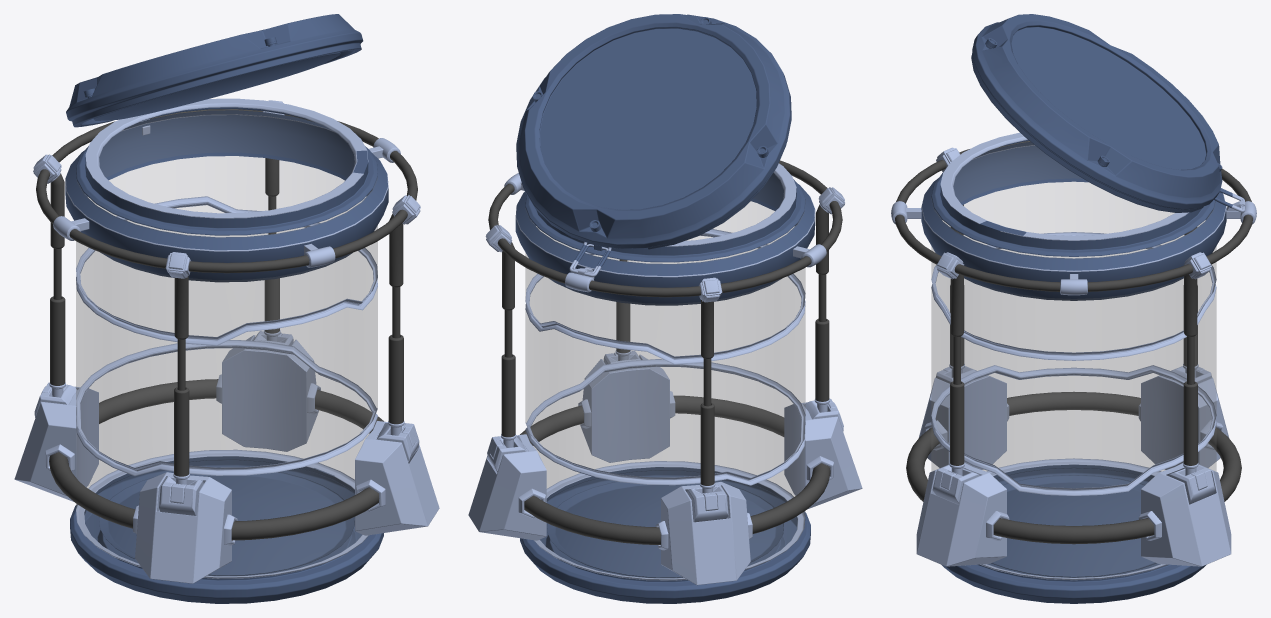
Rendered from stardustContainer.fbx.
3 renders of one model, left to right at view 1: azimuth 30°, elevation 25°; view 2: azimuth 150°, elevation 25°; view 3: azimuth 270°, elevation 25°, orthographic. The views are drawn at different scales.
Visible parts, largest first — view 1: Barrel, Barrel_lid; view 2: Barrel, Barrel_lid; view 3: Barrel, Barrel_lid.
Boxes of the visible parts, bbox=[...] form: Barrel: bbox=[14, 98, 439, 603]; Barrel_lid: bbox=[66, 14, 363, 127]; Barrel: bbox=[468, 160, 862, 603]; Barrel_lid: bbox=[516, 14, 791, 249]; Barrel: bbox=[891, 132, 1256, 603]; Barrel_lid: bbox=[971, 14, 1222, 212].
Size of the model in its own units: 5.75 by 8.82 by 5.75.
